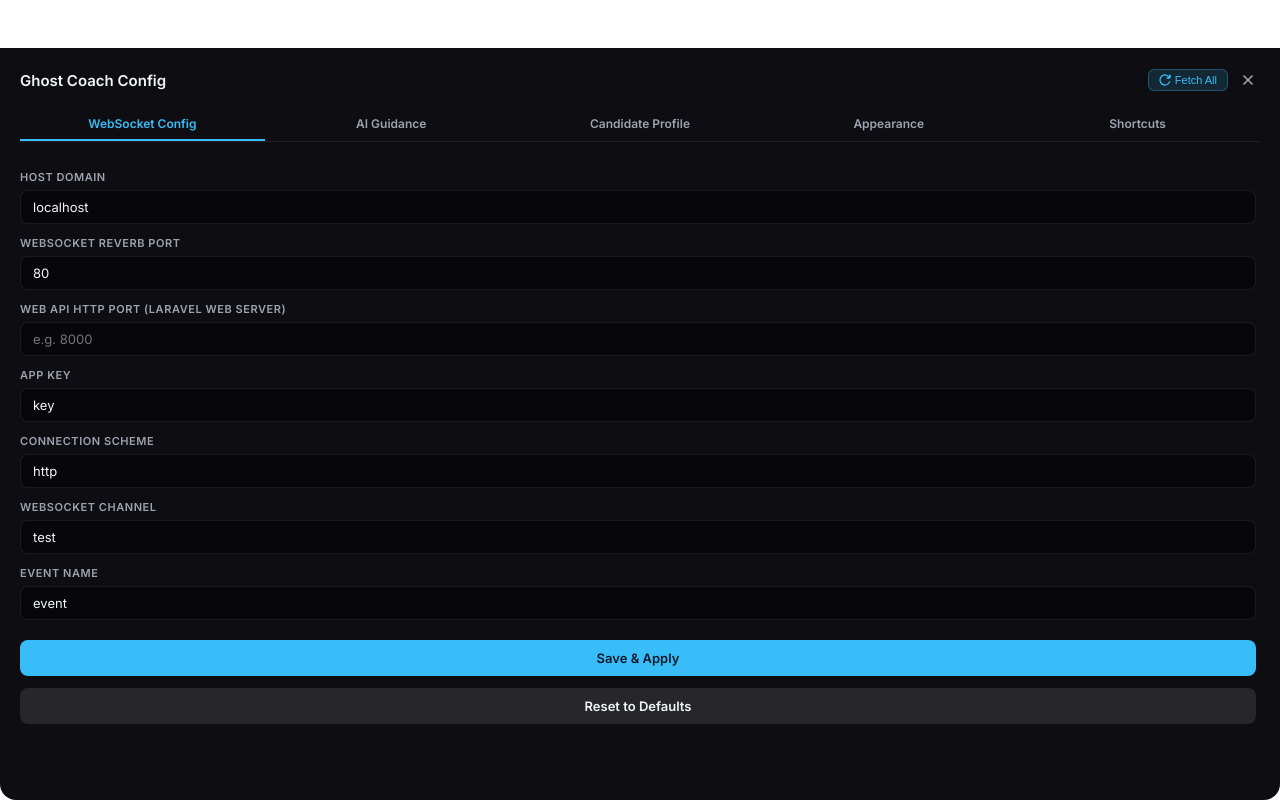
Scenario: SettingsOverlay.vue › renders KeyboardShortcuts child component when Shortcuts tab is active
Click the button with class "tab-btn" showing "Shortcuts" at point(1138, 124), box 1015,108 -> 1260,141
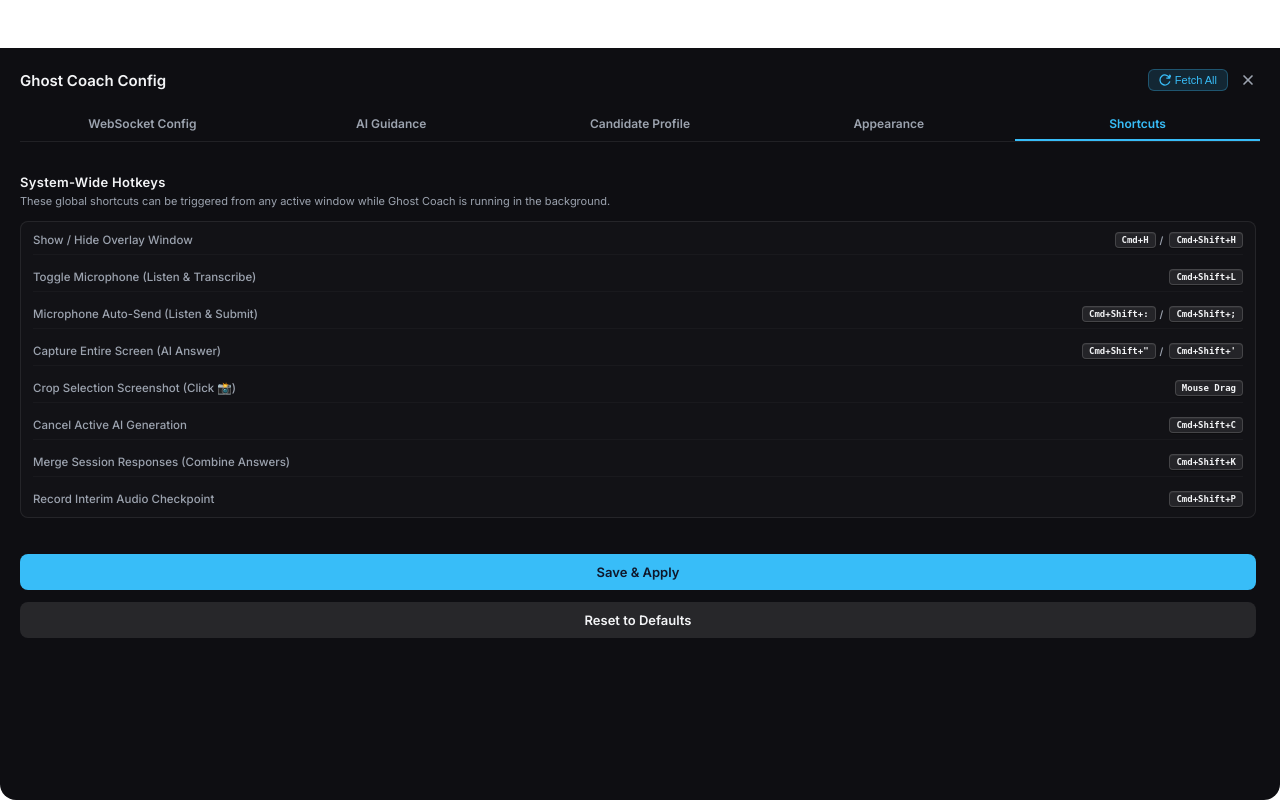
Expected: the text "System-Wide Hotkeys" is shown, 20,174 -> 166,190
Expected: the text "Cmd+Shift+L" is shown, 1169,269 -> 1243,285
